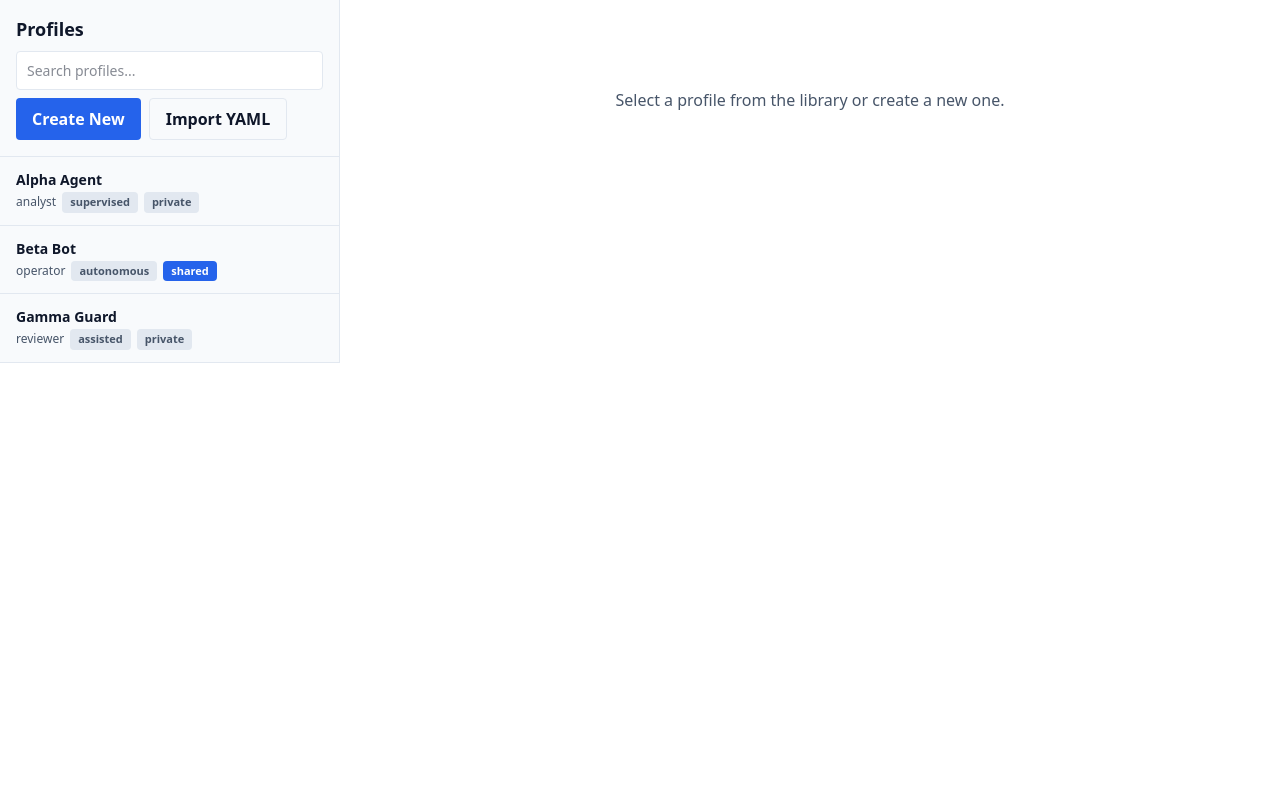
Scenario: ProfilesPage — create new profile › shows Saving... when create mutation is pending
Click the button "Create New" at (78, 119), box [16,98,141,140]
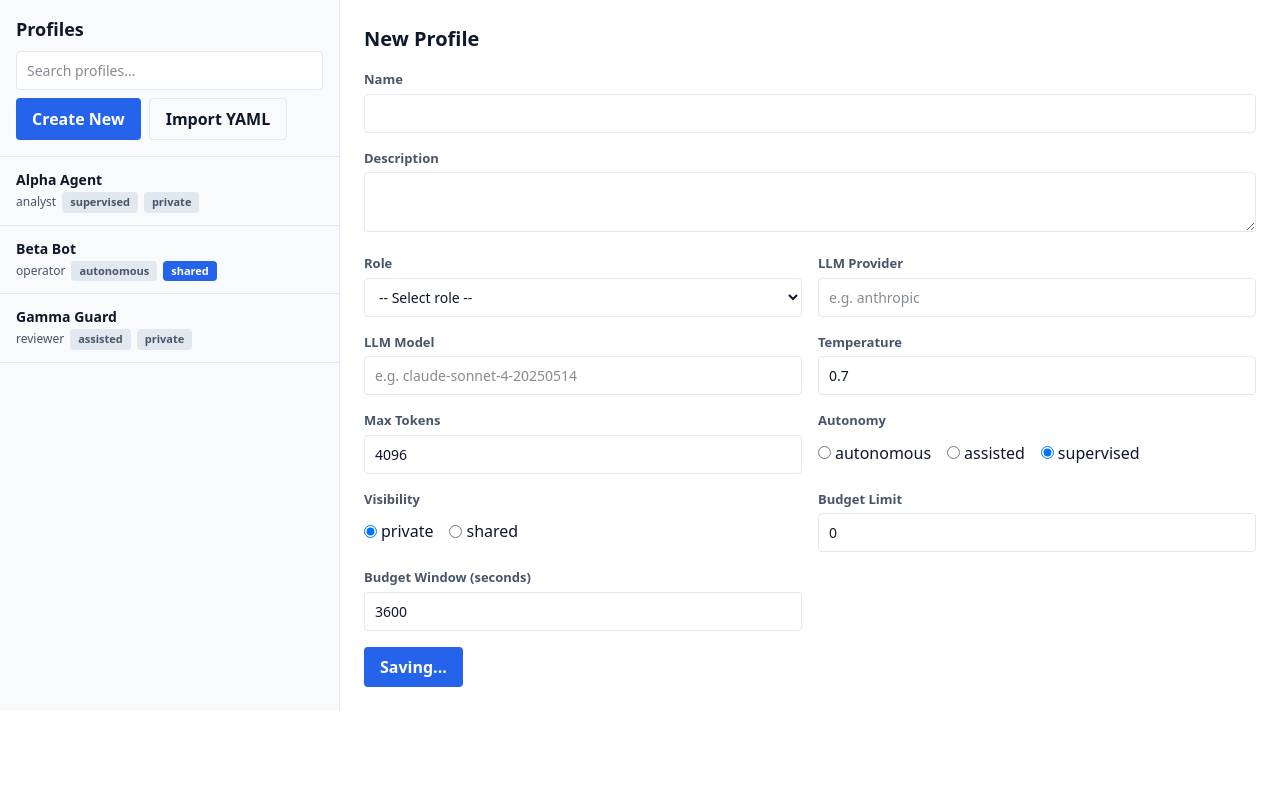
Result: the button "Saving..." is shown at [364,646,463,686]
